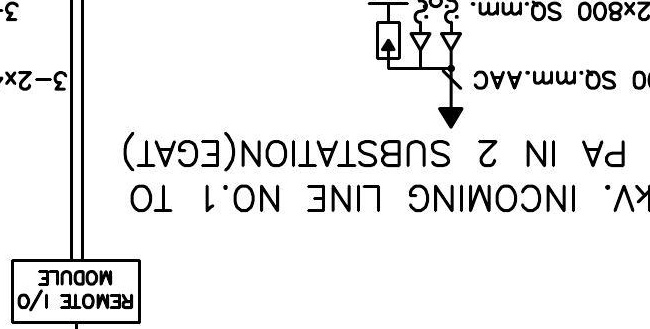remote_io_module: (11, 258, 142, 324)
terminator_double: (408, 31, 463, 71)
